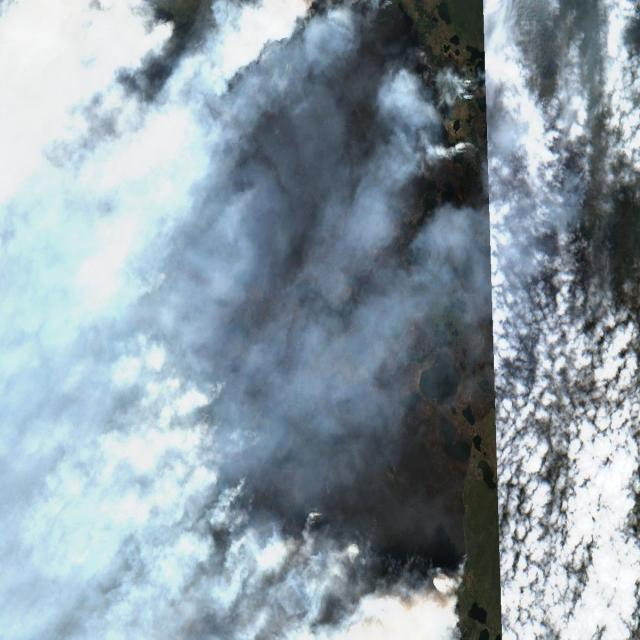fire: (138, 367, 479, 640), (128, 0, 483, 170)
